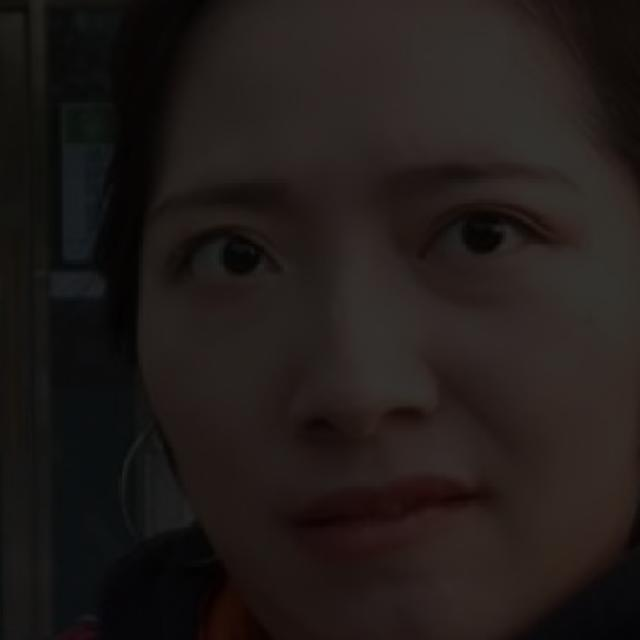Angry: (89, 112, 640, 627)
